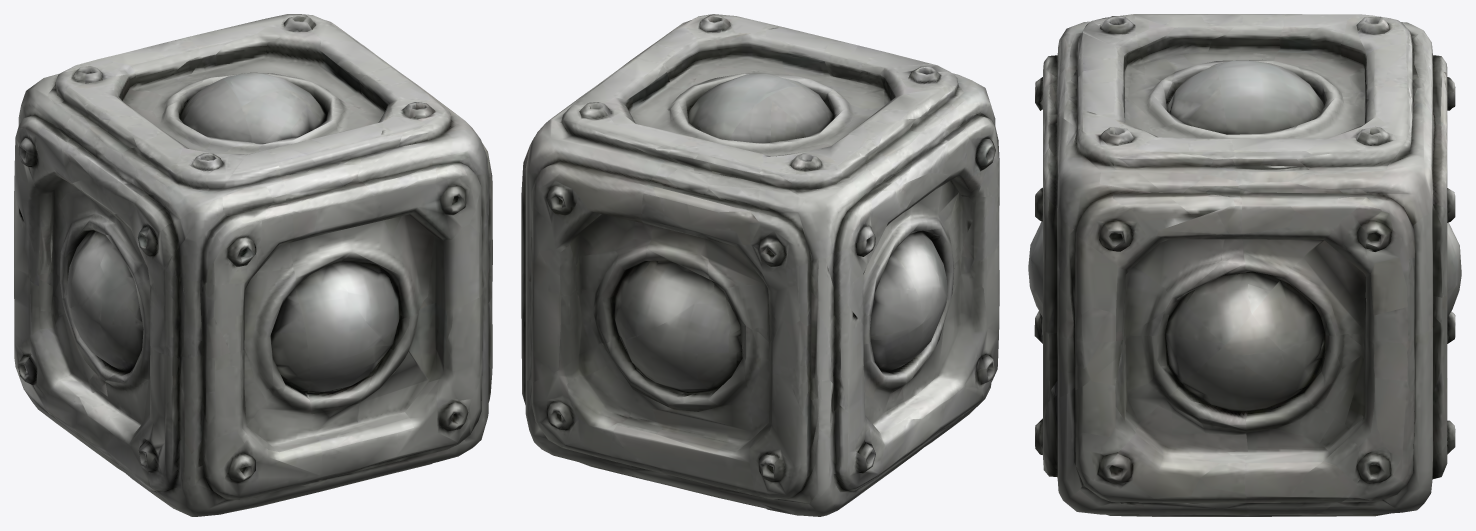
The model's file is kup_parcali.glb.
The picture shows the model from 3 angles, left to right: view 1: azimuth 30°, elevation 25°; view 2: azimuth 150°, elevation 25°; view 3: azimuth 270°, elevation 25°; orthographic projection. The views are drawn at different scales.
Parts seen in each view (by area): view 1: p09, p07, p00, p11, p04, p01, p05, p02, p08, p10, p06; view 2: p08, p00, p02, p01, p05, p09, p04, p06, p11, p03; view 3: p02, p10, p07, p05, p00, p01, p08, p11, p03.
Boxes of the visible parts, left/top/right/bottom form: p09: left=71, top=344, right=470, bottom=516; p07: left=340, top=108, right=492, bottom=371; p00: left=14, top=41, right=203, bottom=309; p11: left=150, top=145, right=348, bottom=327; p04: left=99, top=280, right=390, bottom=421; p01: left=89, top=79, right=254, bottom=292; p05: left=225, top=54, right=448, bottom=186; p02: left=170, top=14, right=393, bottom=81; p08: left=14, top=294, right=91, bottom=449; p10: left=414, top=313, right=492, bottom=453; p06: left=58, top=290, right=126, bottom=397; p08: left=522, top=291, right=906, bottom=516; p00: left=687, top=133, right=939, bottom=407; p02: left=521, top=71, right=718, bottom=381; p01: left=750, top=64, right=998, bottom=275; p05: left=611, top=15, right=857, bottom=123; p09: left=890, top=308, right=999, bottom=471; p04: left=928, top=205, right=999, bottom=330; p06: left=863, top=271, right=945, bottom=423; p11: left=833, top=45, right=999, bottom=211; p03: left=693, top=100, right=825, bottom=144; p02: left=1220, top=78, right=1459, bottom=455; p10: left=1039, top=263, right=1379, bottom=516; p07: left=1031, top=115, right=1223, bottom=403; p05: left=1057, top=61, right=1302, bottom=240; p00: left=1269, top=14, right=1455, bottom=110; p01: left=1061, top=14, right=1305, bottom=88; p08: left=1299, top=226, right=1461, bottom=516; p11: left=1035, top=33, right=1164, bottom=226; p03: left=1174, top=70, right=1340, bottom=123.
Size of the model in its own units: 0.9761 by 0.9774 by 0.9764.
2 materials, 1 textured.
